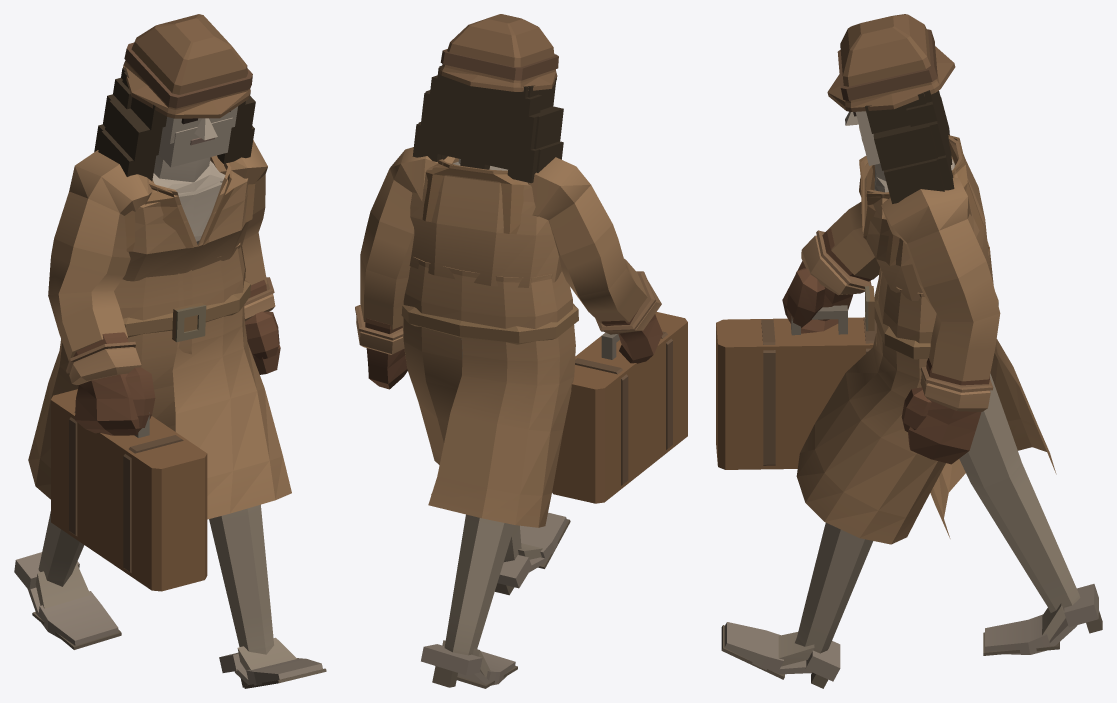
File: passenger-ac425a__walk0.glb
3 views of the same model, side by side, from view 1: azimuth 30°, elevation 25°; view 2: azimuth 150°, elevation 25°; view 3: azimuth 270°, elevation 25° (orthographic). The views are drawn at different scales.
Parts seen in each view (by area): view 1: passenger-ac425a__walk0; view 2: passenger-ac425a__walk0; view 3: passenger-ac425a__walk0.
Boxes of the visible parts, left/top/right/bottom form: passenger-ac425a__walk0: left=14, top=14, right=326, bottom=688; passenger-ac425a__walk0: left=355, top=14, right=687, bottom=688; passenger-ac425a__walk0: left=716, top=14, right=1102, bottom=688.
Bounding box in the file's own units: 0.738 × 1.74 × 0.9423.
